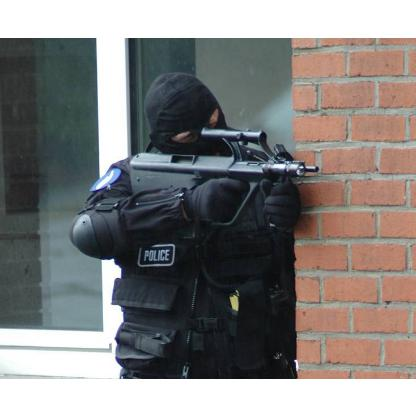gun: (128, 128, 316, 235)
